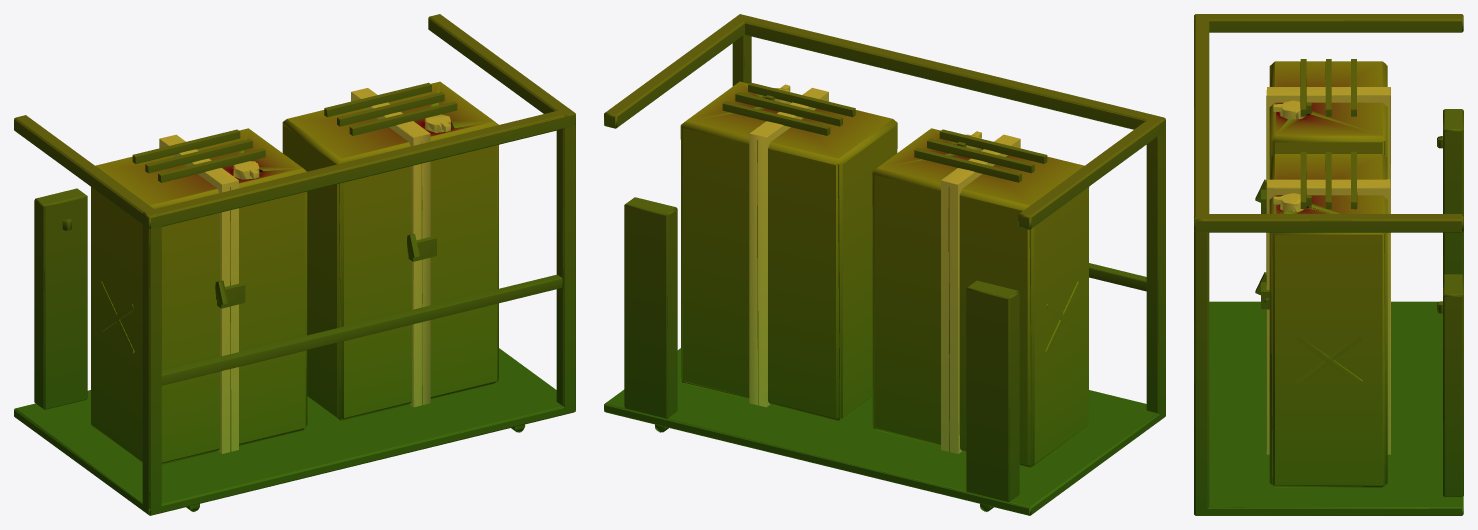
Rendered from RCLModule_salvage_hauler_hazard_industrial_fueldrums_LODs.fbx.
3 views of the same model, side by side, from view 1: azimuth 30°, elevation 25°; view 2: azimuth 150°, elevation 25°; view 3: azimuth 270°, elevation 25° (orthographic).
Visible parts, largest first — view 1: LOD1_RCLModule_salvage_hauler_hazard_industrial_fueldrums_Ba (×3), LOD2_RCLModule_salvage_hauler_hazard_industrial_fueldrums_Ba (×2); view 2: LOD1_RCLModule_salvage_hauler_hazard_industrial_fueldrums_Ba (×3), LOD2_RCLModule_salvage_hauler_hazard_industrial_fueldrums_Ba (×2); view 3: LOD1_RCLModule_salvage_hauler_hazard_industrial_fueldrums_Ba (×3), LOD2_RCLModule_salvage_hauler_hazard_industrial_fueldrums_Ba (×2).
Part boxes in pixels (x1,y1,x2,y2): LOD1_RCLModule_salvage_hauler_hazard_industrial_fueldrums_Ba (×3): (14,14,575,515); LOD2_RCLModule_salvage_hauler_hazard_industrial_fueldrums_Ba (×2): (14,17,575,515); LOD1_RCLModule_salvage_hauler_hazard_industrial_fueldrums_Ba (×3): (604,14,1165,515); LOD2_RCLModule_salvage_hauler_hazard_industrial_fueldrums_Ba (×2): (604,23,1165,515); LOD1_RCLModule_salvage_hauler_hazard_industrial_fueldrums_Ba (×3): (1194,14,1463,515); LOD2_RCLModule_salvage_hauler_hazard_industrial_fueldrums_Ba (×2): (1194,14,1463,515).
Bounding box in the file's own units: 58 × 40.4 × 32.05.
